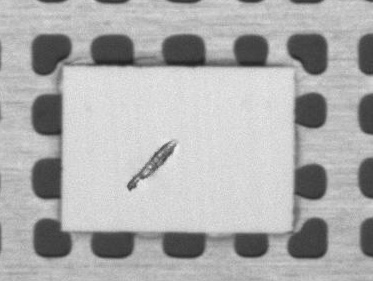DIE_INK: (162, 102, 242, 148)
